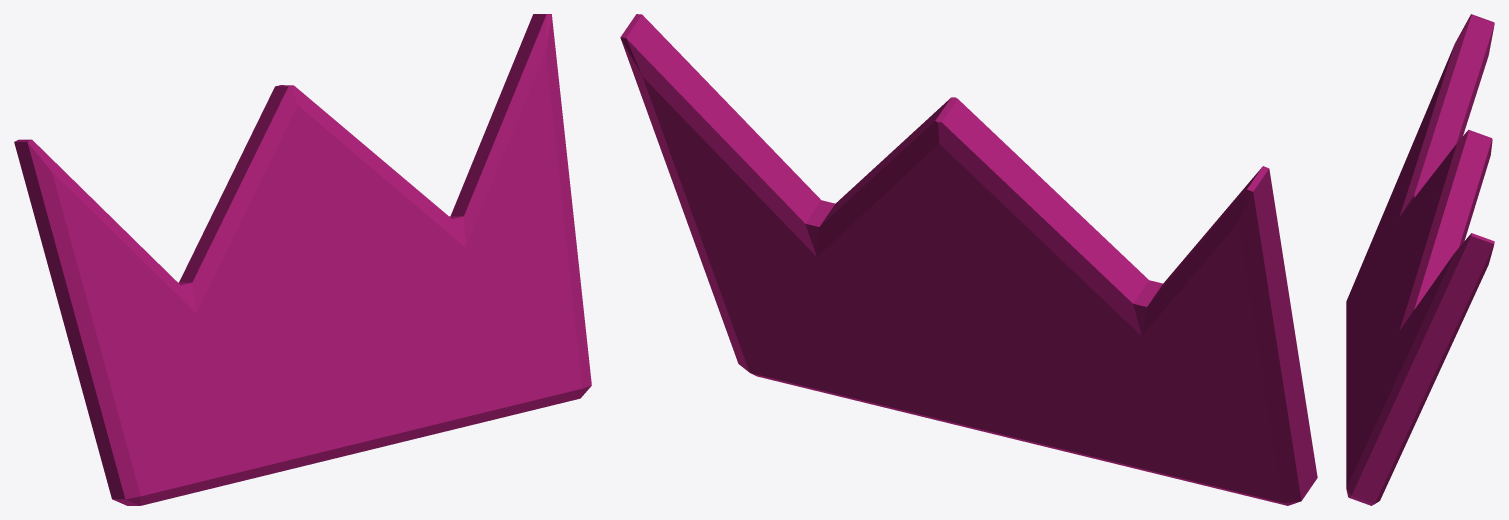
The model's file is crown.fbx.
The picture shows the model from 3 angles, left to right: view 1: azimuth 30°, elevation 25°; view 2: azimuth 150°, elevation 25°; view 3: azimuth 270°, elevation 25°; orthographic projection. The views are drawn at different scales.
Visible parts, largest first — view 1: CrownMesh; view 2: CrownMesh; view 3: CrownMesh.
Boxes of the visible parts, x1,y1,x2,y2 form: CrownMesh: (14,14,591,505); CrownMesh: (620,14,1317,505); CrownMesh: (1346,14,1494,505).
Bounding box in the file's own units: 462 × 280 × 131.
